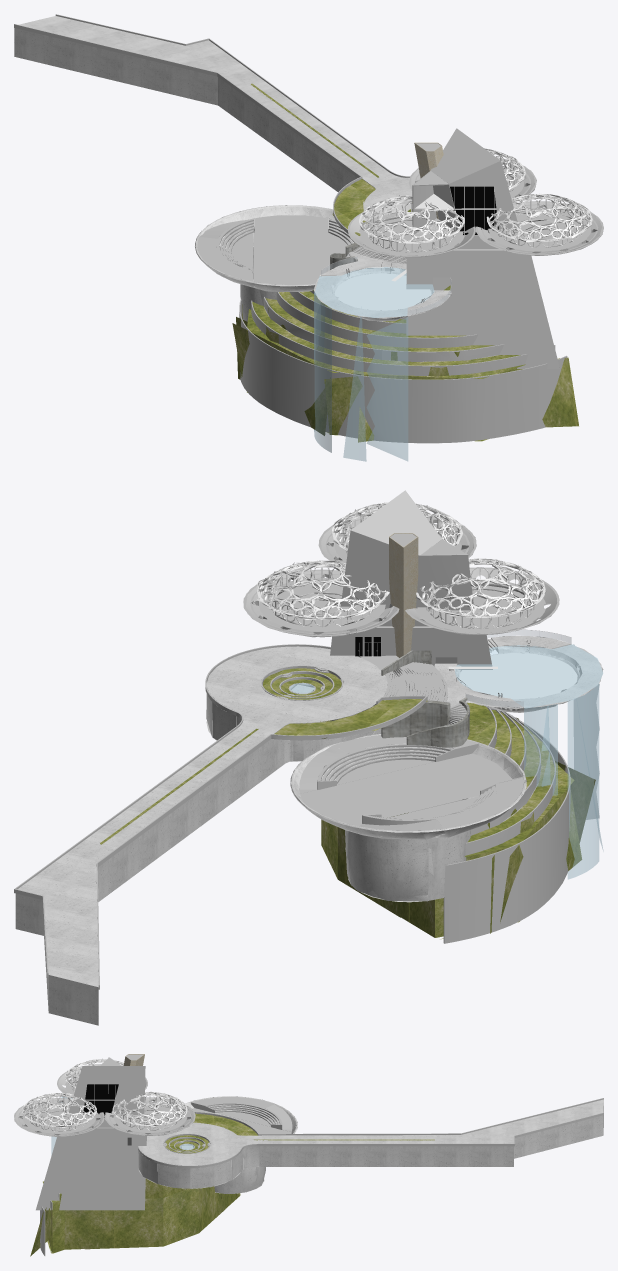
Rendered from lowpolysportsclubfinal.fbx.
The picture shows the model from 3 angles, top to bottom: view 1: azimuth 30°, elevation 25°; view 2: azimuth 150°, elevation 25°; view 3: azimuth 270°, elevation 25°; orthographic projection. The views are drawn at different scales.
Visible parts, largest first — view 1: 物件_1.002, 物件_1.005, 物件_11.003, 物件_2.003, 物件_15.003, 物件_30, 物件_43.002, 物件_31.002, 物件_5.006, 物件_3.004, 物件_10.003, 物件_31 (+19 smaller); view 2: 物件_1.002, 物件_1.005, 物件_31, 物件_30, 物件_31.002, 物件_3.002, 物件_43.002, 物件_6.006, 物件_3.004, 物件_15.003, 物件_29.002, 物件_11.003 (+25 smaller); view 3: 物件_1.002, 物件_11.003, 物件_6.004, 物件_43.002, 物件_5.006, 物件_6.006, 物件_4.001, 物件_31, 物件_56.001, 物件_5.001, 物件_3, 物件_28.001 (+11 smaller).
Boxes of the visible parts, x1,y1,x2,y2 form: 物件_1.002: [14, 16, 412, 215]; 物件_1.005: [239, 299, 567, 443]; 物件_11.003: [406, 250, 559, 368]; 物件_2.003: [343, 316, 408, 461]; 物件_15.003: [232, 304, 578, 442]; 物件_30: [253, 215, 328, 287]; 物件_43.002: [415, 128, 519, 248]; 物件_31.002: [314, 267, 434, 317]; 物件_5.006: [476, 201, 603, 255]; 物件_3.004: [347, 202, 475, 257]; 物件_10.003: [251, 300, 555, 375]; 物件_31: [194, 205, 334, 321]; 物件_1.002: [15, 646, 387, 1025]; 物件_1.005: [443, 720, 570, 943]; 物件_31: [290, 734, 526, 902]; 物件_30: [300, 753, 512, 825]; 物件_31.002: [455, 644, 602, 708]; 物件_3.002: [567, 684, 599, 879]; 物件_43.002: [340, 490, 441, 626]; 物件_6.006: [243, 569, 399, 637]; 物件_3.004: [405, 567, 559, 634]; 物件_15.003: [435, 761, 595, 939]; 物件_29.002: [459, 653, 577, 699]; 物件_11.003: [330, 627, 500, 712]; 物件_1.002: [138, 1099, 603, 1188]; 物件_11.003: [36, 1128, 146, 1210]; 物件_6.004: [102, 1178, 217, 1248]; 物件_43.002: [67, 1066, 145, 1127]; 物件_5.006: [14, 1098, 104, 1136]; 物件_6.006: [104, 1097, 195, 1135]; 物件_4.001: [138, 1112, 603, 1168]; 物件_31: [185, 1096, 297, 1193]; 物件_56.001: [83, 1084, 118, 1117]; 物件_5.001: [259, 1098, 603, 1135]; 物件_3: [191, 1097, 292, 1129]; 物件_28.001: [193, 1113, 257, 1135].
Bounding box in the file's own units: 6290 × 5774 × 16939.
